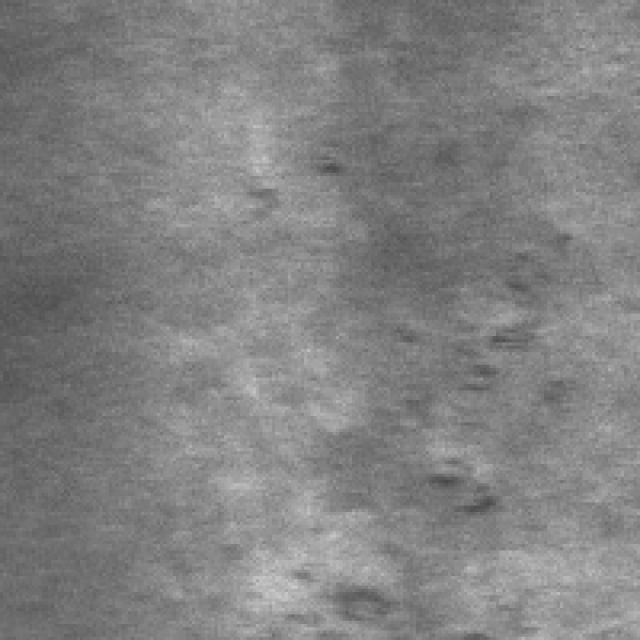rolled-in_scale: (422, 221, 573, 518), (256, 556, 525, 634)
